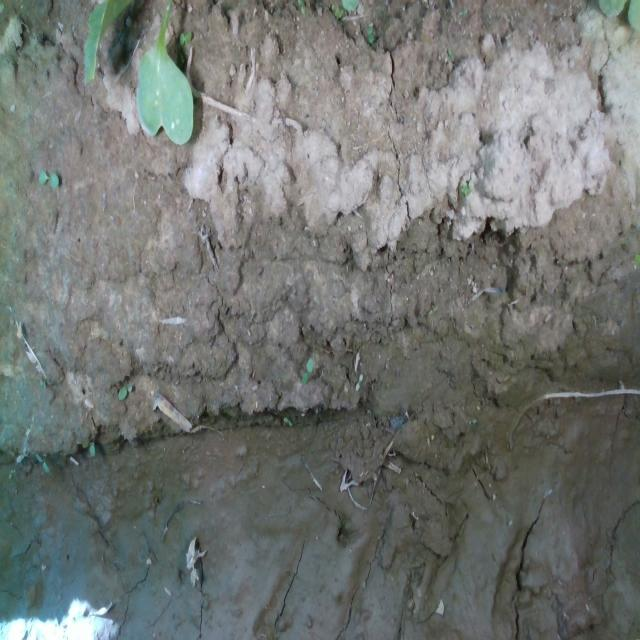weed: (38, 169, 58, 189), (116, 379, 132, 401), (34, 451, 50, 473), (178, 28, 192, 46), (366, 24, 374, 42), (38, 378, 46, 388)
